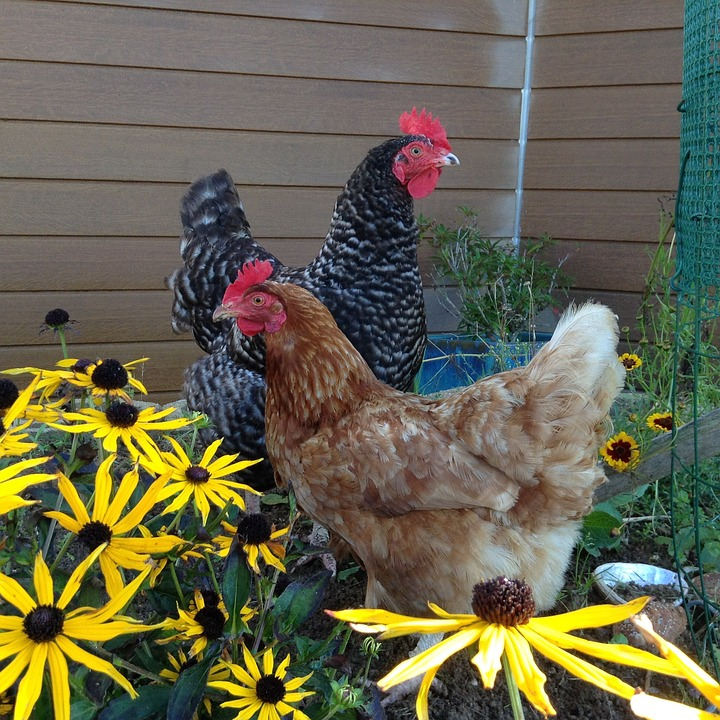chicken: (202, 258, 622, 644), (160, 135, 450, 467)
